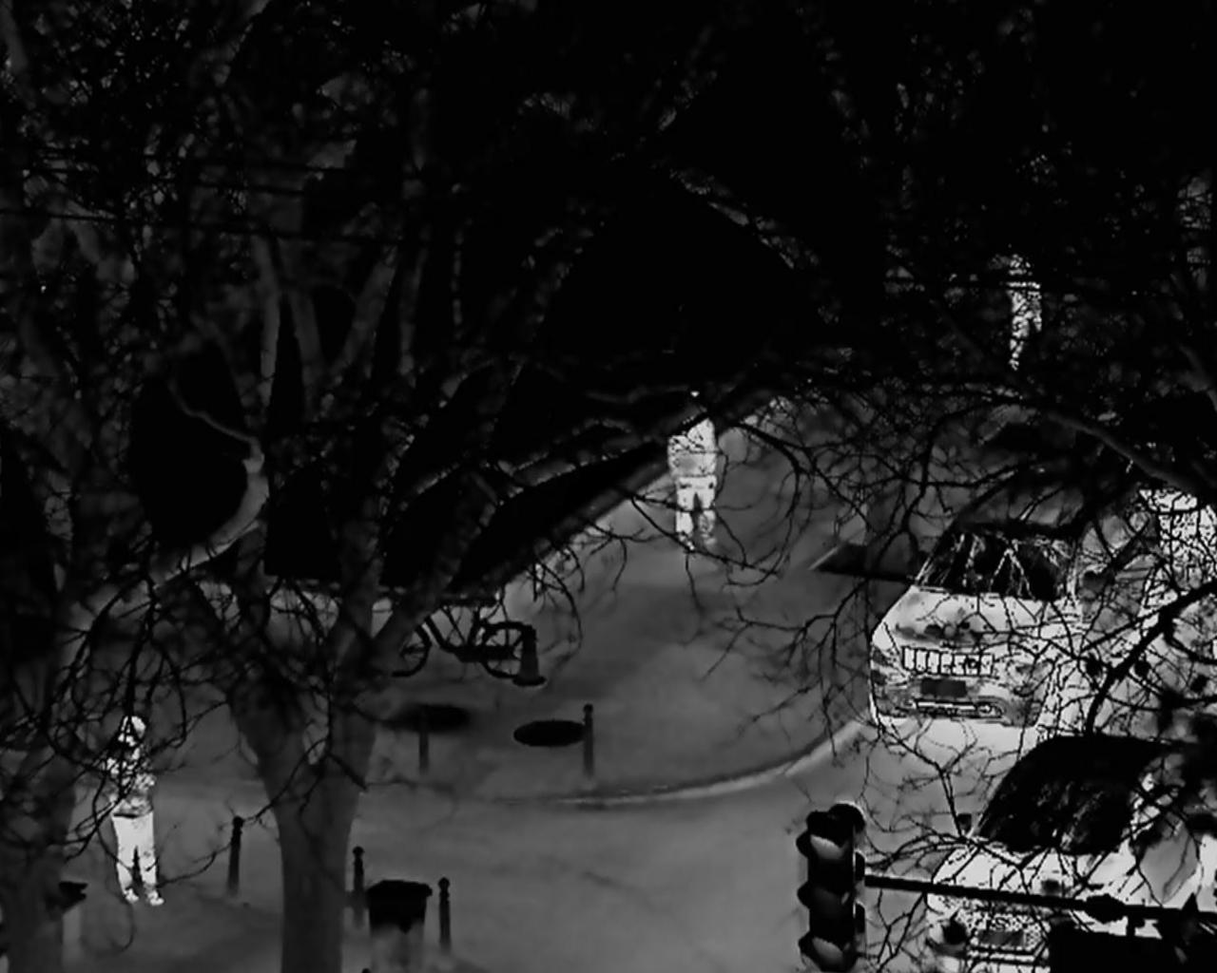person: (106, 714, 164, 910), (665, 419, 719, 549)
